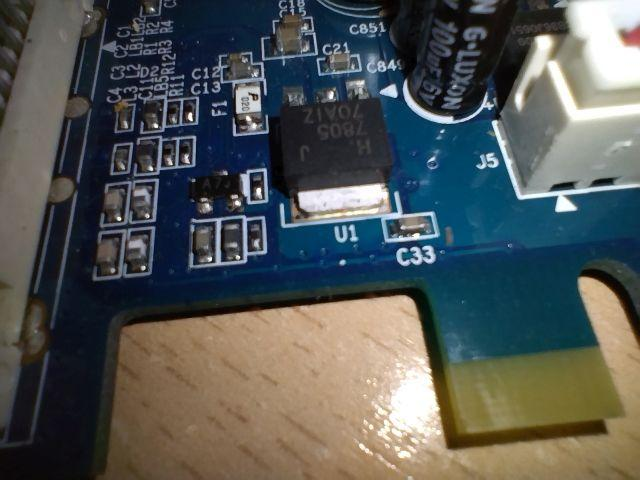capacitor: (82, 224, 134, 288), (179, 218, 226, 276), (385, 208, 450, 246), (219, 210, 254, 274), (91, 180, 136, 221), (124, 225, 156, 282), (215, 59, 278, 86), (314, 50, 372, 76), (207, 48, 278, 66)
resistor: (178, 88, 205, 128), (162, 93, 186, 136)
